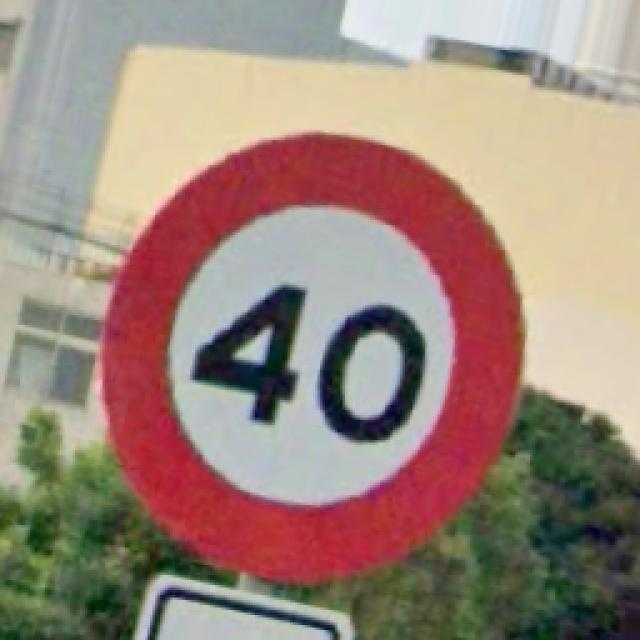Speed Limit -40-: (102, 132, 522, 580)
